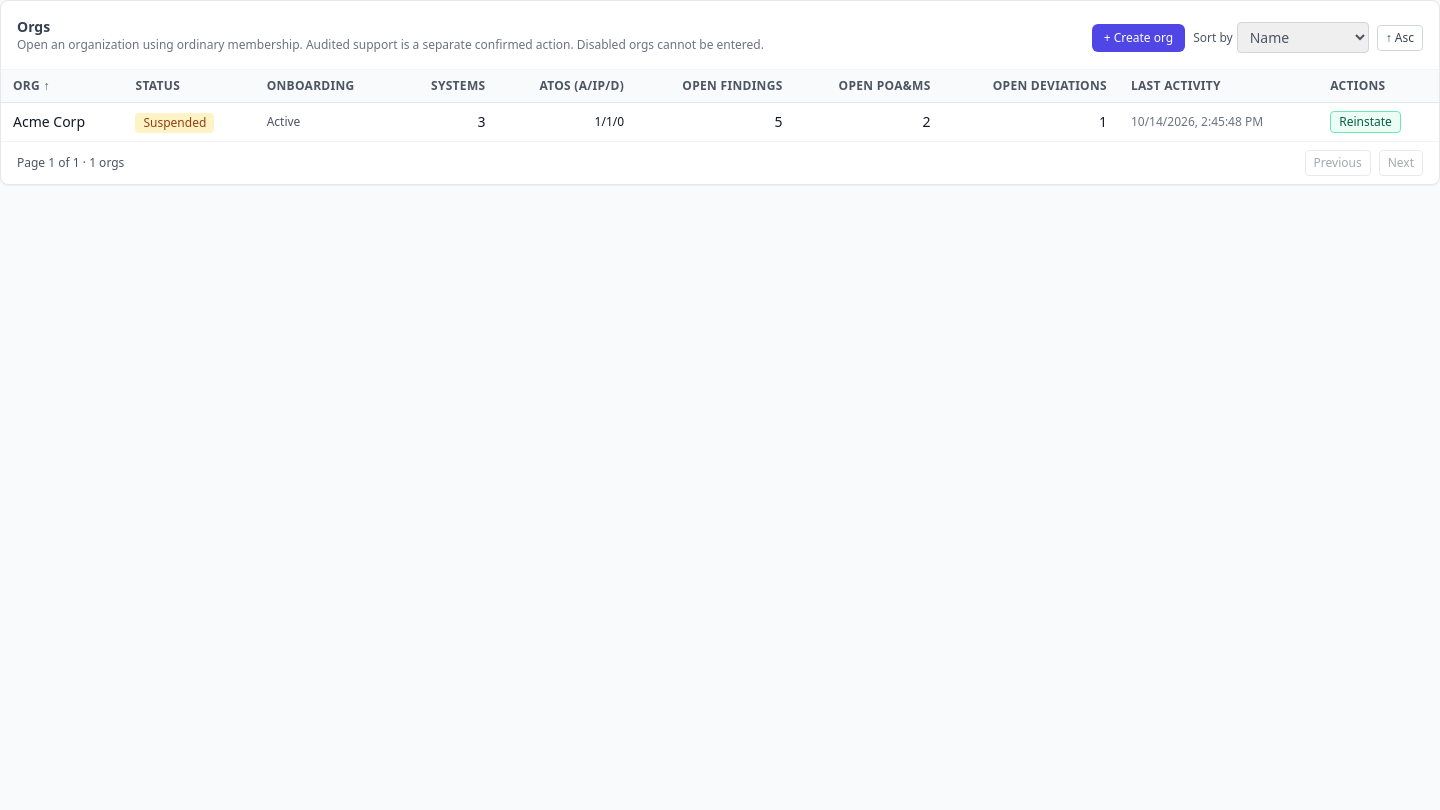
OrgsTable — confirmation dialogs (Wave 6 GAP-221-A) › clicking Reinstate opens a dialog with Reinstate heading
Click the button "Reinstate".
click(1366, 122)  # box 1330,111 -> 1401,133
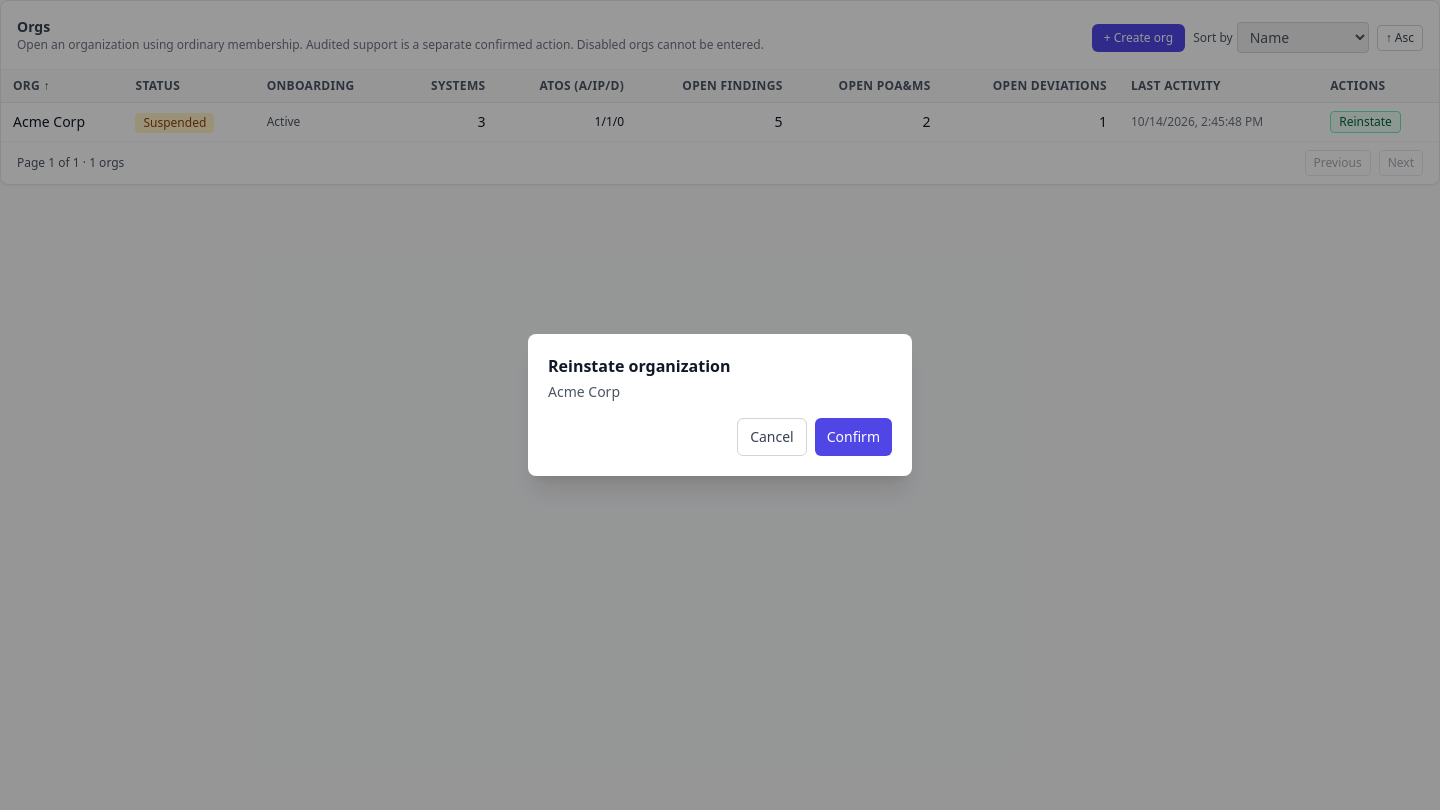
Expected: the dialog is shown
Expected: the dialog shows "Reinstate", 548,355 -> 624,377
